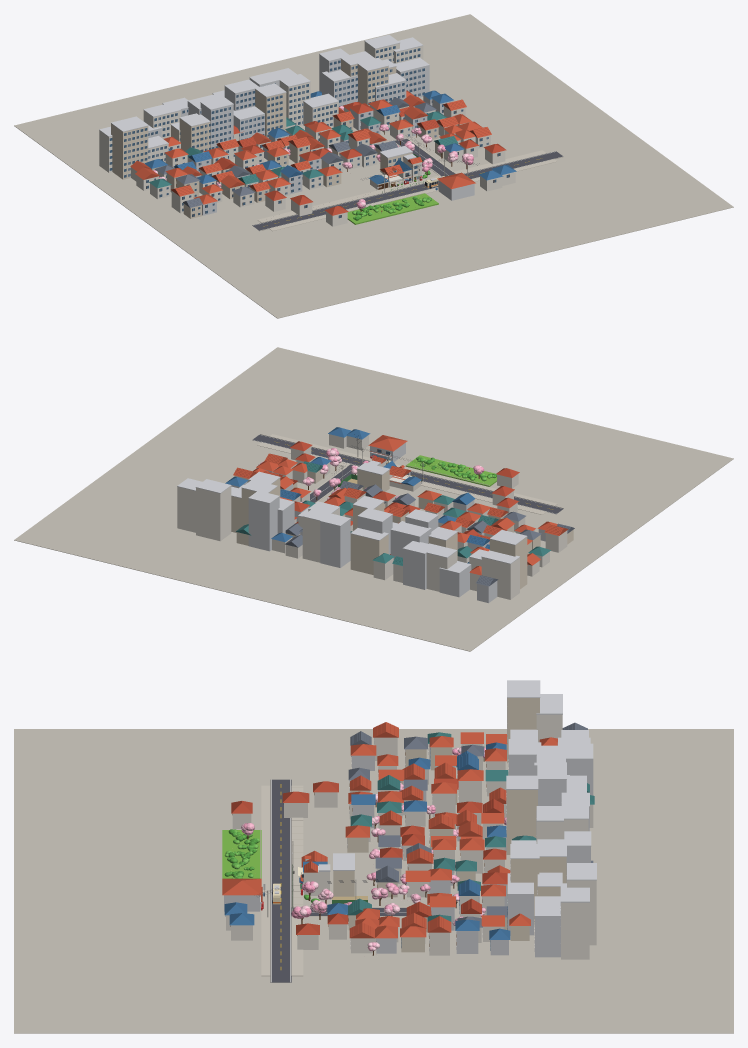
File: street.glb
3 renders of one model, top to bottom at view 1: azimuth 30°, elevation 25°; view 2: azimuth 150°, elevation 25°; view 3: azimuth 270°, elevation 25°, orthographic. The views are drawn at different scales.
Parts seen in each view (by area): view 1: gnd_ground, occ_house_-6_6, gnd_bank, occ_house_-1_6, occ_house_2_6, occ_house_8_6, occ_house_4_7, occ_house_-2_6, occ_house_7_7, occ_house_11_7, occ_house_5_6, occ_house_-3_8 (+8 smaller); view 2: gnd_ground, occ_house_10_8, occ_house_7_8, occ_house_3_8, occ_house_-6_7, occ_house_1_8, gnd_bank, occ_house_-2_8, occ_house_-6_6, occ_house_4_8, occ_house_11_8, occ_house_-3_8 (+11 smaller); view 3: gnd_ground, occ_house_11_8, occ_house_2_6, gnd_bank, occ_house_-6_6, occ_house_11_7, occ_house_8_6, occ_house_1_7, occ_house_10_8, occ_konbini, occ_house_-6_7, occ_house_9_6 (+26 smaller).
Part boxes in pixels (x1,y1,x2,y2): gnd_ground: [14, 14, 733, 318]; occ_house_-6_6: [111, 116, 148, 179]; gnd_bank: [347, 193, 438, 224]; occ_house_-1_6: [200, 96, 233, 149]; occ_house_2_6: [255, 83, 286, 138]; occ_house_8_6: [357, 58, 388, 105]; occ_house_4_7: [279, 74, 310, 126]; occ_house_-2_6: [179, 113, 214, 152]; occ_house_7_7: [322, 70, 357, 106]; occ_house_11_7: [393, 58, 429, 97]; occ_house_5_6: [303, 93, 338, 127]; occ_house_-3_8: [143, 102, 181, 138]; gnd_ground: [14, 347, 733, 651]; occ_house_10_8: [195, 479, 231, 541]; occ_house_7_8: [248, 490, 279, 551]; occ_house_3_8: [320, 513, 350, 567]; occ_house_-6_7: [481, 550, 519, 599]; occ_house_1_8: [350, 528, 388, 574]; gnd_bank: [405, 455, 496, 486]; occ_house_-2_8: [402, 541, 434, 589]; occ_house_-6_6: [490, 530, 527, 589]; occ_house_4_8: [302, 509, 336, 562]; occ_house_11_8: [177, 478, 202, 532]; occ_house_-3_8: [421, 543, 457, 591]; gnd_ground: [14, 729, 733, 1033]; occ_house_11_8: [560, 883, 589, 959]; occ_house_2_6: [506, 775, 538, 854]; gnd_bank: [222, 829, 261, 878]; occ_house_-6_6: [507, 680, 540, 763]; occ_house_11_7: [534, 896, 560, 957]; occ_house_8_6: [510, 844, 539, 924]; occ_house_1_7: [537, 762, 566, 805]; occ_house_10_8: [566, 863, 596, 945]; occ_konbini: [222, 878, 265, 911]; occ_house_-6_7: [536, 694, 562, 742]; occ_house_9_6: [507, 873, 533, 935].
Bounding box in the file's own units: 240 × 24.58 × 240.
